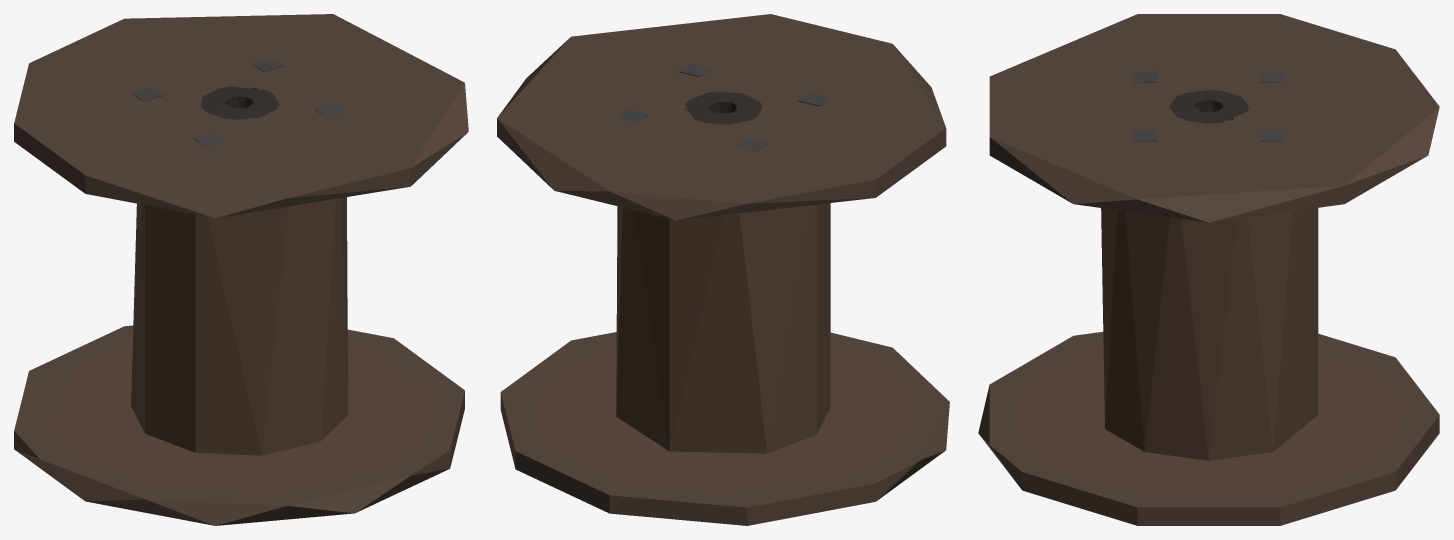
The model's file is cable-reel.lod2.glb.
3 renders of one model, left to right at view 1: azimuth 30°, elevation 25°; view 2: azimuth 150°, elevation 25°; view 3: azimuth 270°, elevation 25°, orthographic.
Visible parts, largest first — view 1: Cylinder.001_Reel_Wood_0; view 2: Cylinder.001_Reel_Wood_0; view 3: Cylinder.001_Reel_Wood_0.
Boxes of the visible parts, x1,y1,x2,y2 form: Cylinder.001_Reel_Wood_0: (14,14,468,525); Cylinder.001_Reel_Wood_0: (497,14,949,525); Cylinder.001_Reel_Wood_0: (978,14,1439,525).
Bounding box in the file's own units: 1.99 × 1.56 × 1.99.
